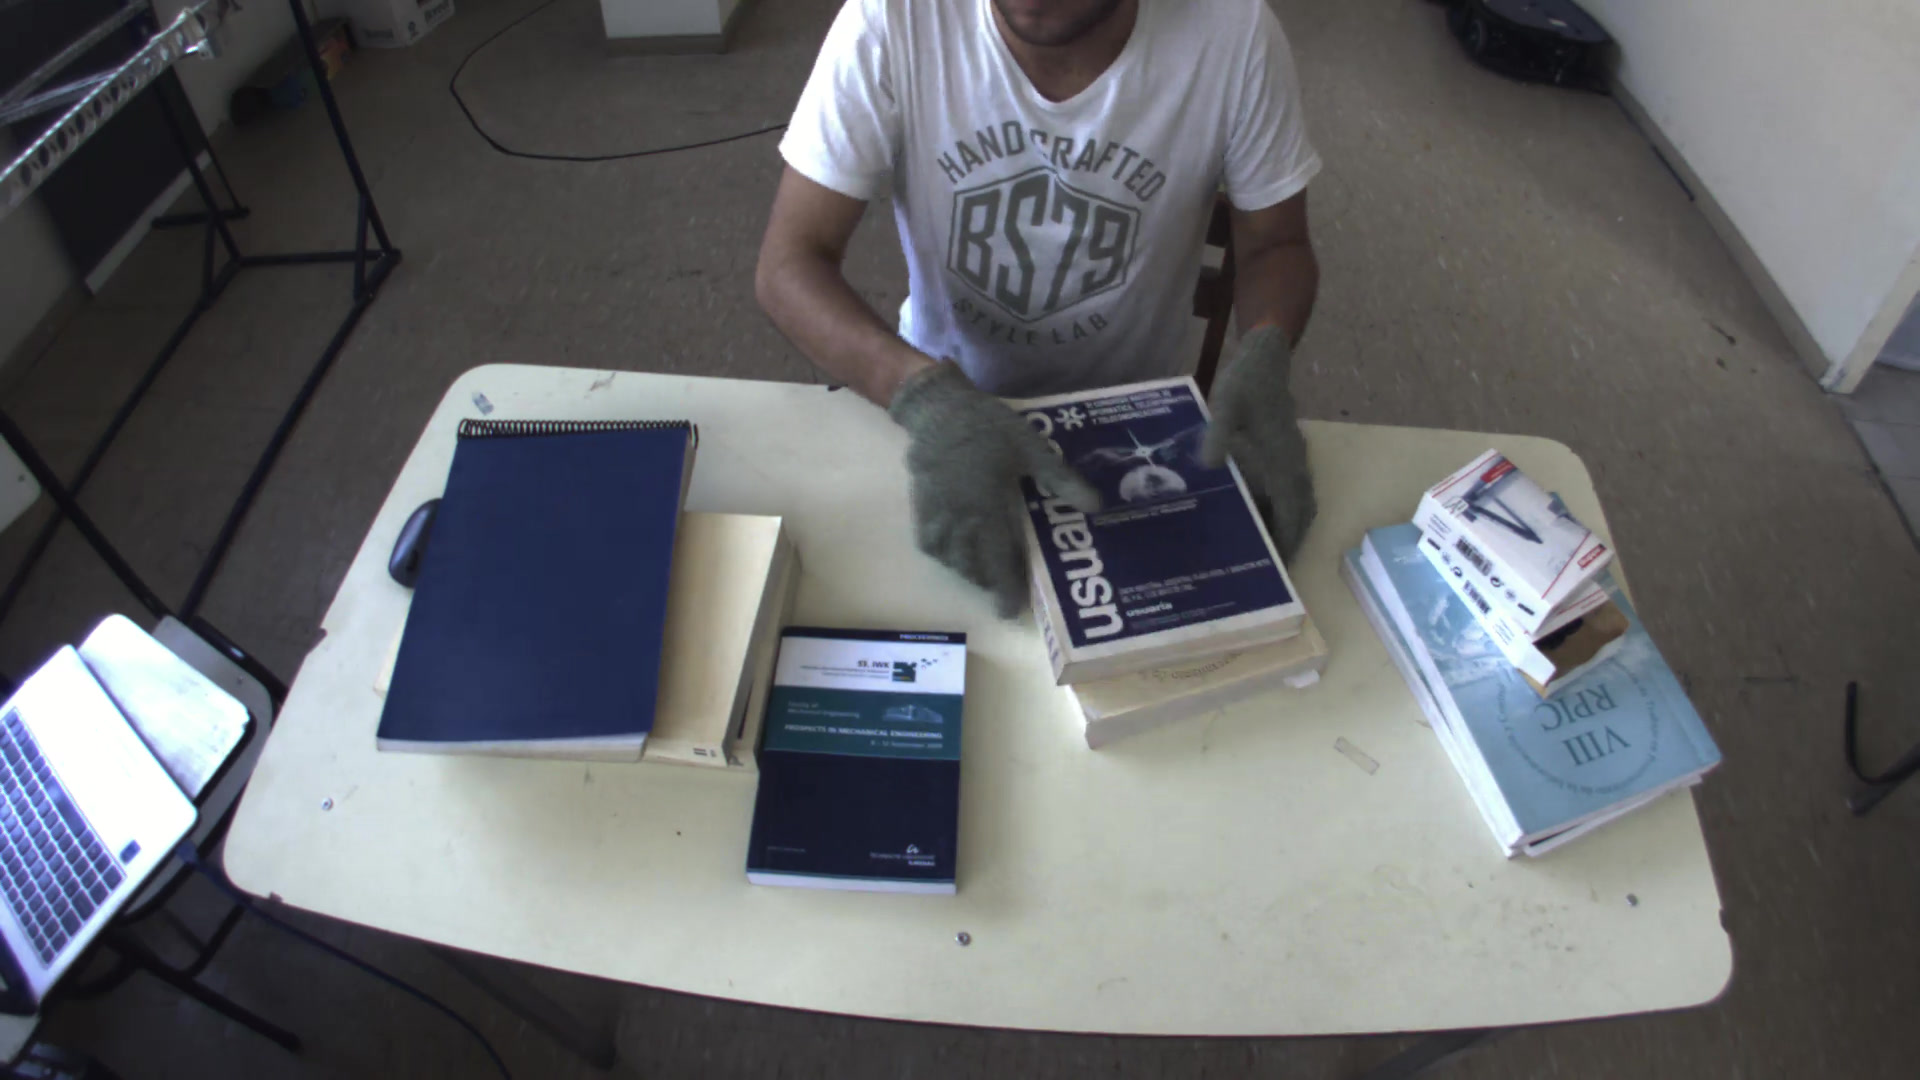hand: (872, 348, 1077, 605), (1195, 320, 1319, 496)
